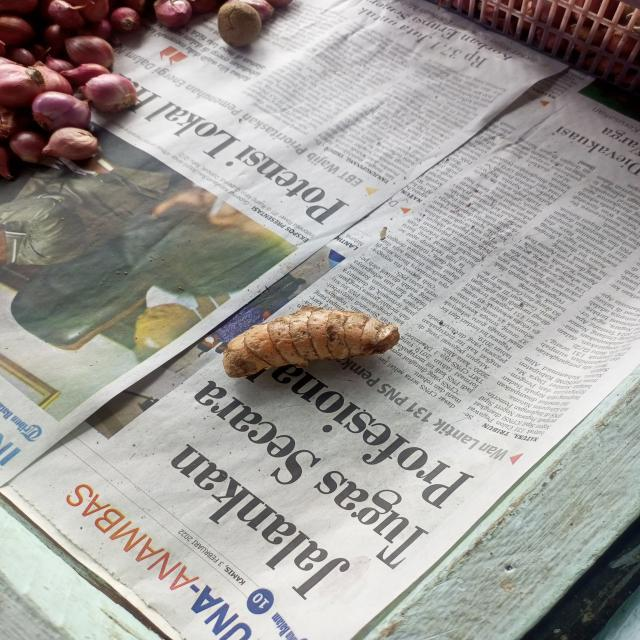ginger: (230, 308, 402, 369)
